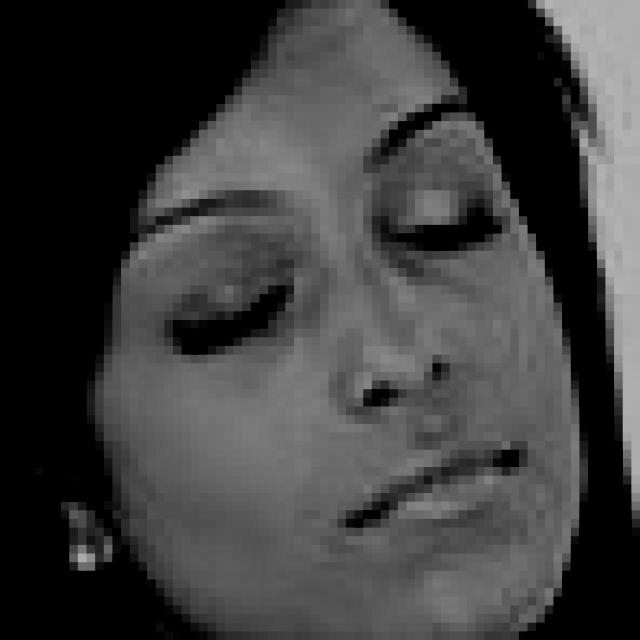real: (61, 0, 585, 640), (148, 189, 512, 368)
